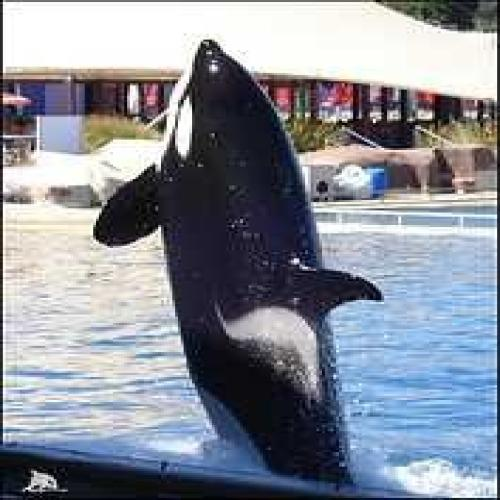killer_whale-endangered: (107, 26, 402, 486)
